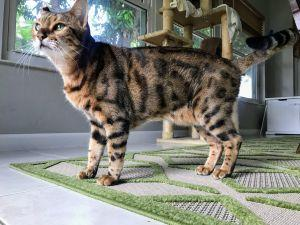bengal: (27, 1, 97, 67)
